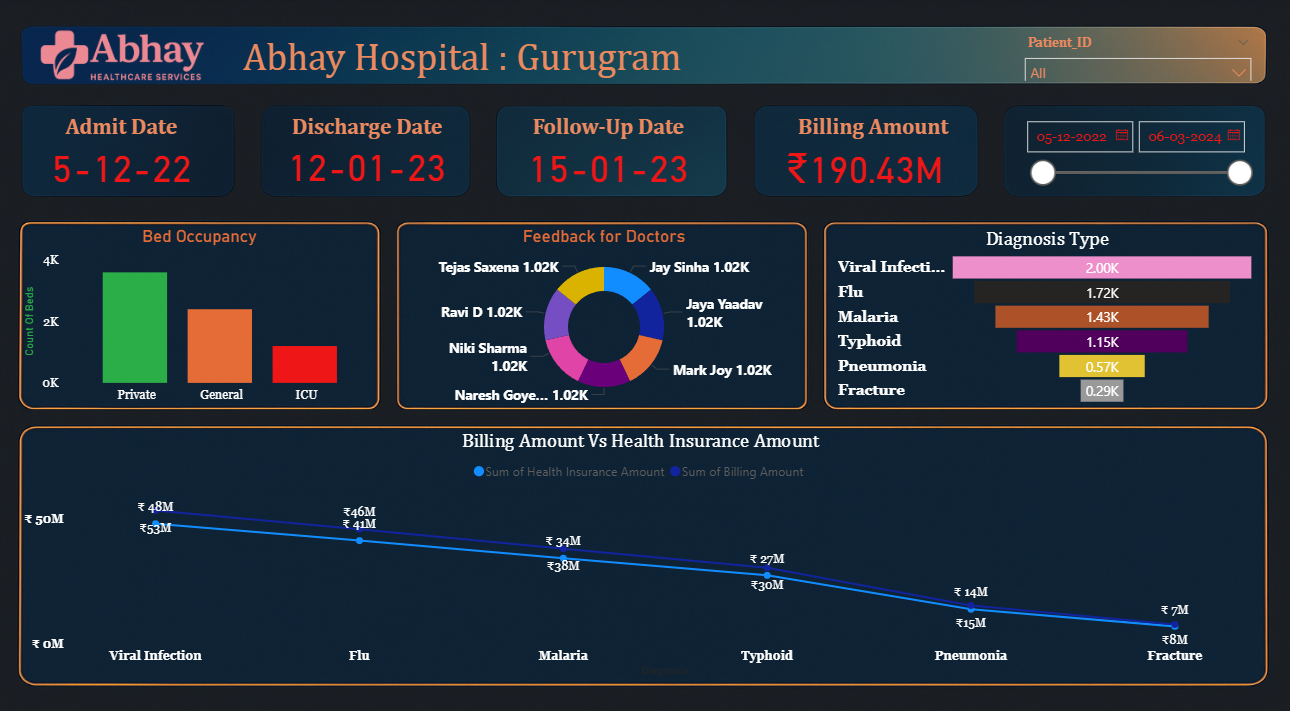

The dashboard page shown, as its layout file describes it:
{"tool":"powerbi","page":{"name":"Page 1","canvas":[1280,720],"ordinal":0},"visuals":[{"type":"image","box":[20.6,19.2,201.7,75.5],"z":0},{"type":"textbox","box":[236,31.6,495.4,63.1],"z":1},{"type":"slicer","fields":{"Values":["Sheet1.Patient_ID"]},"box":[997.6,31.6,242.9,50.8],"z":2},{"type":"card","fields":{"Values":["Sheet1.Admit_Date"]},"box":[38.4,133.1,166,65.9],"z":3},{"type":"textbox","box":[38.4,109.8,166,43.9],"z":4},{"type":"card","fields":{"Values":["Sheet1.Discharge_Date"]},"box":[260.7,129,204.5,72.7],"z":5},{"type":"textbox","box":[260.7,109.8,204.5,43.9],"z":6},{"type":"card","fields":{"Values":["Sheet1.Followup Date"]},"box":[484.4,133.1,229.2,65.9],"z":7},{"type":"textbox","box":[484.4,109.8,229.2,43.9],"z":8},{"type":"card","fields":{"Values":["Sheet1.Billing Amount"]},"box":[752,135.8,197.6,60.4],"z":9},{"type":"textbox","box":[752,109.8,214.1,38.4],"z":10},{"type":"slicer","fields":{"Values":["Sheet1.Admit_Date"]},"box":[997.6,111.1,242.9,87.8],"z":11},{"type":"columnChart","title":"Bed Occupancy ","fields":{"Category":["Sheet1.Bed_Occupancy"],"Y":["Sheet1.Bed_Occupancy"]},"box":[20.6,225,354,182.5],"z":12},{"type":"donutChart","title":"Feedback for Doctors","fields":{"Y":["Sheet1.Doctor"],"Category":["Sheet1.Doctor"]},"box":[397.9,225,395.2,180],"z":13},{"type":"funnel","title":"Diagnosis Type","fields":{"Y":["Sheet1.Diagnosis"],"Category":["Sheet1.Diagnosis"]},"box":[819.9,225.9,421,179.2],"z":14},{"type":"lineChart","title":"Billing Amount Vs Health Insurance Amount","fields":{"Y":["Sheet1.Health Insurance Amount","Sheet1.Billing Amount"],"Category":["Sheet1.Diagnosis"]},"box":[20.9,424.7,1220.1,247.9],"z":15}]}

Visuals, with their boxes in screenshot pixels (x1, y1, x2, y2), scaled from the page's 1280x720 canvas onto the 1290x711 screenshot:
image: (21,19,224,94)
textbox: (238,31,737,94)
slicer - Sheet1.Patient_ID: (1005,31,1250,81)
card - Sheet1.Admit_Date: (39,131,206,197)
textbox: (39,108,206,152)
card - Sheet1.Discharge_Date: (263,127,469,199)
textbox: (263,108,469,152)
card - Sheet1.Followup Date: (488,131,719,197)
textbox: (488,108,719,152)
card - Sheet1.Billing Amount: (758,134,957,194)
textbox: (758,108,974,146)
slicer - Sheet1.Admit_Date: (1005,110,1250,196)
"Bed Occupancy " columnChart: (21,222,378,402)
"Feedback for Doctors" donutChart: (401,222,799,400)
"Diagnosis Type" funnel: (826,223,1251,400)
"Billing Amount Vs Health Insurance Amount" lineChart: (21,419,1251,664)
